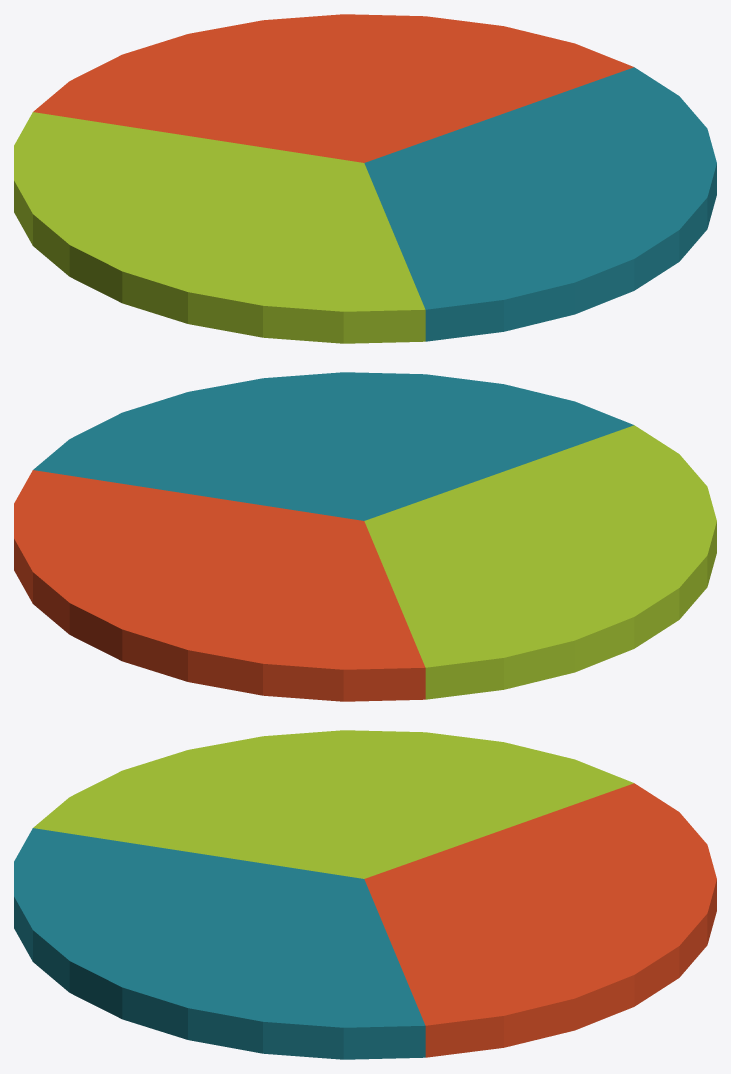
The model's file is CBL-platform.fbx.
The picture shows the model from 3 angles, top to bottom: view 1: azimuth 30°, elevation 25°; view 2: azimuth 150°, elevation 25°; view 3: azimuth 270°, elevation 25°; orthographic projection.
Visible parts, largest first — view 1: Circle.003; view 2: Circle.003; view 3: Circle.003.
Part boxes in pixels (x1=…): Circle.003: x1=14, y1=14, x2=716, y2=343; Circle.003: x1=14, y1=372, x2=716, y2=701; Circle.003: x1=14, y1=730, x2=716, y2=1059.
Bounding box in the file's own units: 200 × 10 × 199.
